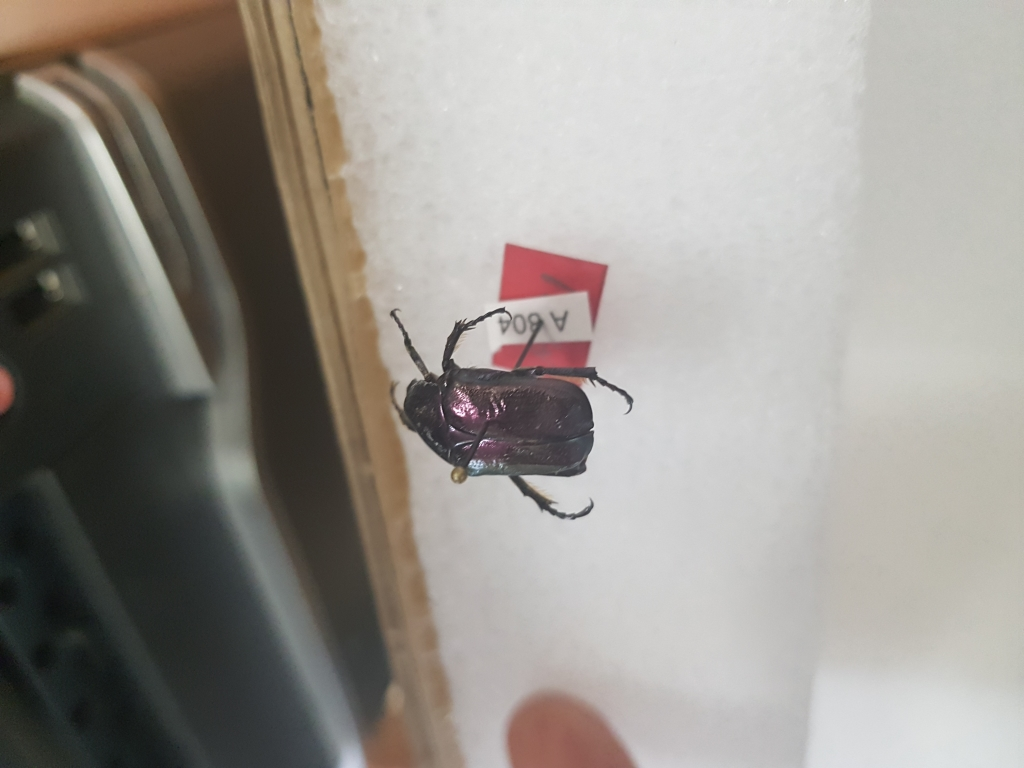Protaetia_besucheti: (381, 295, 643, 528)
